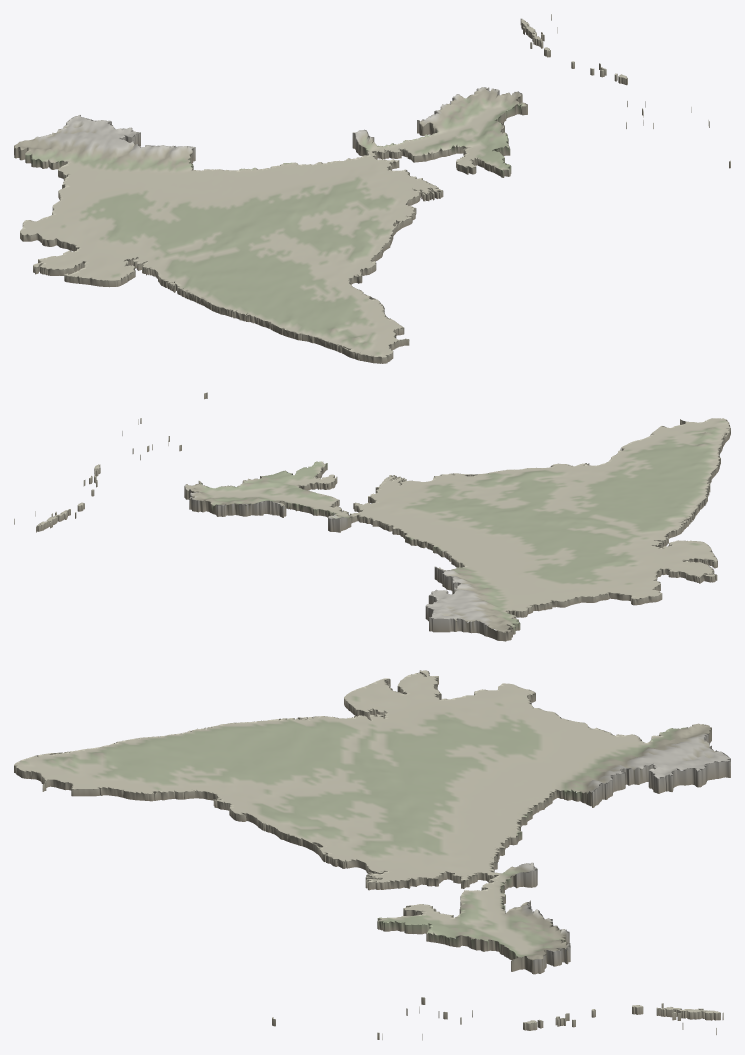
Rendered from in-desktop.glb.
3 views of the same model, one above another, from view 1: azimuth 30°, elevation 25°; view 2: azimuth 150°, elevation 25°; view 3: azimuth 270°, elevation 25° (orthographic). The views are drawn at different scales.
Bounding box in the file's own units: 120 × 2.74 × 100.
